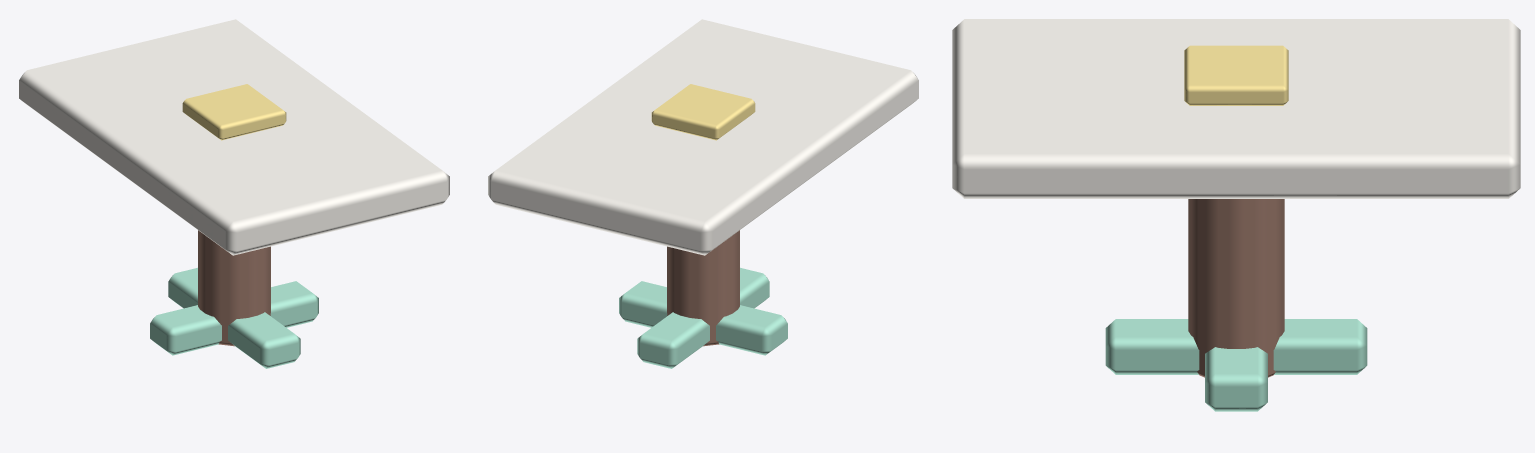
The model's file is dining_table_compact.glb.
3 views of the same model, side by side, from view 1: azimuth 30°, elevation 25°; view 2: azimuth 150°, elevation 25°; view 3: azimuth 270°, elevation 25° (orthographic). The views are drawn at different scales.
Visible parts, largest first — view 1: DiningTable_Top, DiningTable_Pedestal, DiningTable_FootA, DiningTable_CenterAccent, DiningTable_FootB; view 2: DiningTable_Top, DiningTable_Pedestal, DiningTable_FootA, DiningTable_CenterAccent, DiningTable_FootB; view 3: DiningTable_Top, DiningTable_Pedestal, DiningTable_FootB, DiningTable_CenterAccent, DiningTable_FootA.
Part boxes in pixels (x1,y1,x2,y2): DiningTable_Top: (19,19,449,255); DiningTable_Pedestal: (198,230,270,346); DiningTable_FootA: (150,281,318,355); DiningTable_CenterAccent: (182,84,286,140); DiningTable_FootB: (168,267,300,368); DiningTable_Top: (488,19,918,255); DiningTable_Pedestal: (667,230,739,346); DiningTable_FootA: (619,281,787,355); DiningTable_CenterAccent: (651,84,755,140); DiningTable_FootB: (637,267,769,368); DiningTable_Top: (952,19,1520,198); DiningTable_Pedestal: (1188,199,1284,377); DiningTable_FootB: (1105,319,1367,374); DiningTable_CenterAccent: (1184,45,1288,105); DiningTable_FootA: (1205,347,1267,411).
Size of the model in its own units: 0.82 by 0.7955 by 1.36.
